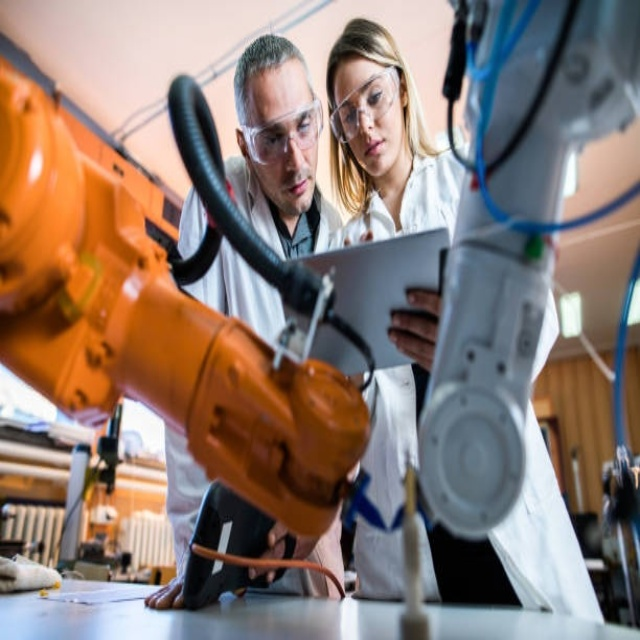Gafas: (241, 98, 324, 165), (329, 67, 399, 143)
Sin_guantes: (387, 278, 443, 370)
Sin_mascara: (362, 129, 391, 176), (280, 169, 312, 207)
